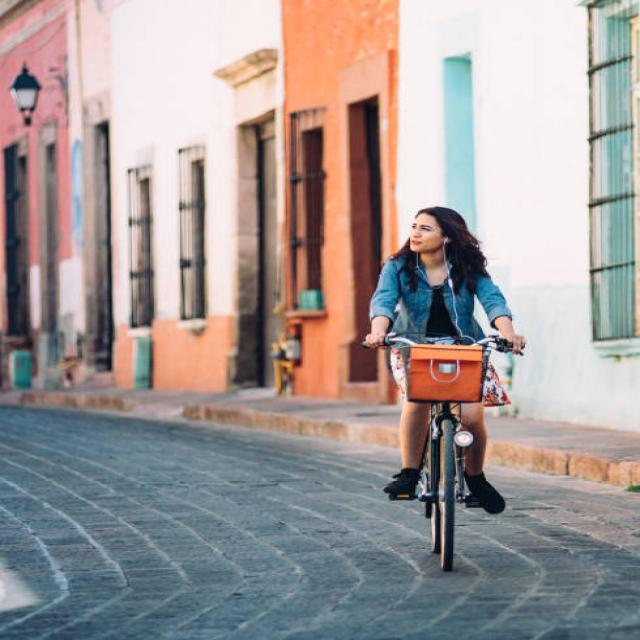bicycle: (364, 206, 525, 569)
